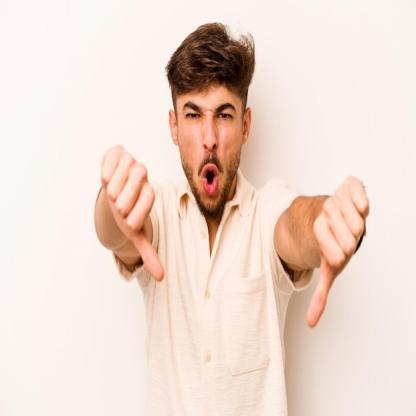thumb_down: (298, 173, 372, 329), (96, 140, 166, 284)
